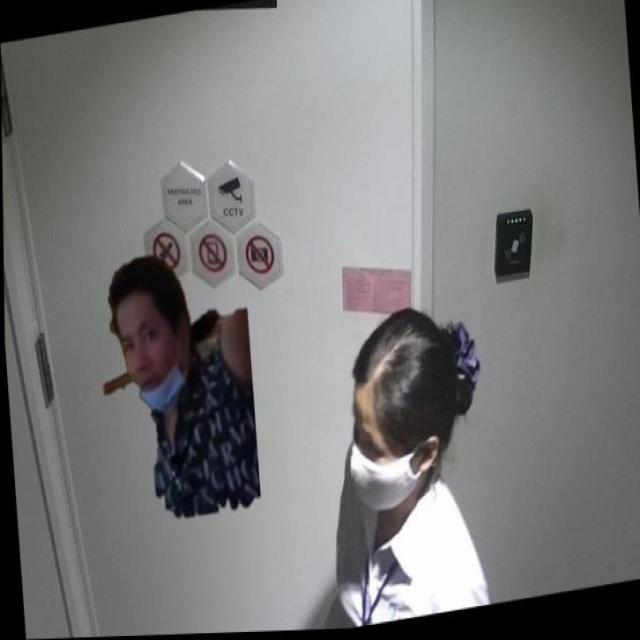hairnet: (116, 313, 185, 417)
